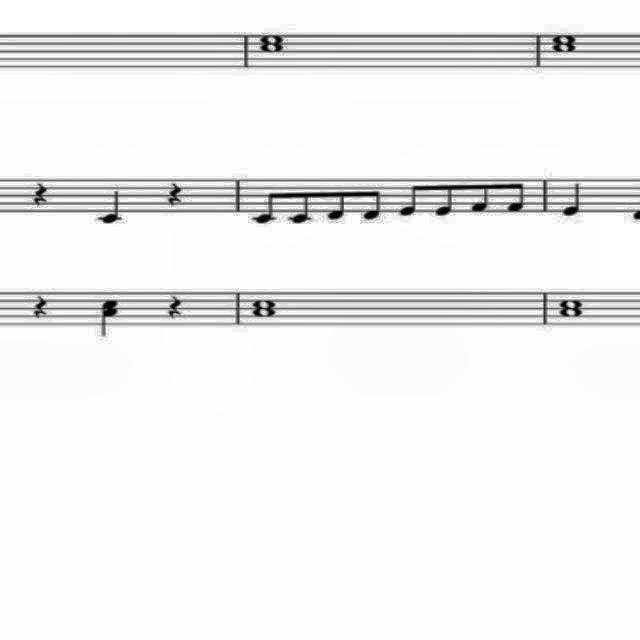Eighth-note: (244, 180, 282, 232), (430, 172, 456, 228), (284, 182, 314, 230), (396, 172, 424, 222), (463, 176, 493, 220), (326, 176, 350, 228), (361, 173, 383, 227), (504, 175, 528, 217)
Quarter-note: (94, 184, 130, 228), (560, 174, 588, 222)
Quarter-rest: (23, 178, 52, 214), (160, 180, 188, 212), (162, 286, 185, 322), (31, 292, 51, 324)
